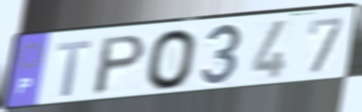3: (199, 20, 243, 90)
4: (249, 17, 291, 82)
7: (305, 14, 345, 77)
O: (144, 27, 199, 93)
P: (89, 32, 149, 98)
T: (55, 38, 94, 99)
